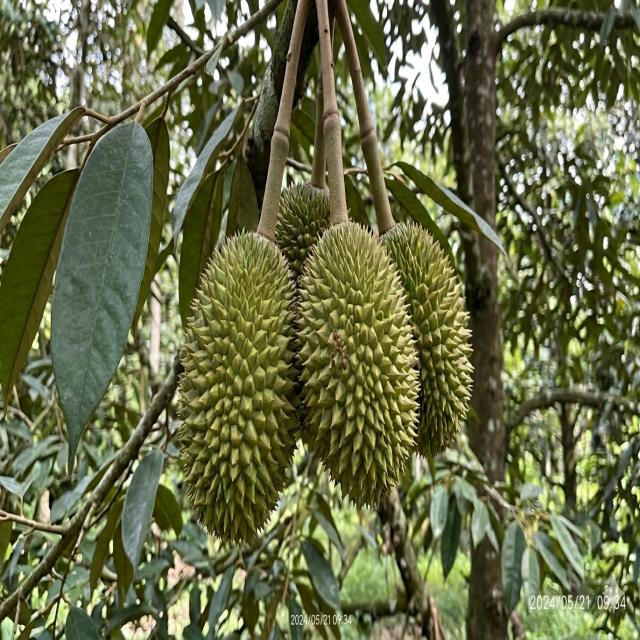immature: (174, 226, 304, 546), (291, 223, 426, 507), (378, 213, 477, 465), (275, 180, 331, 277)
